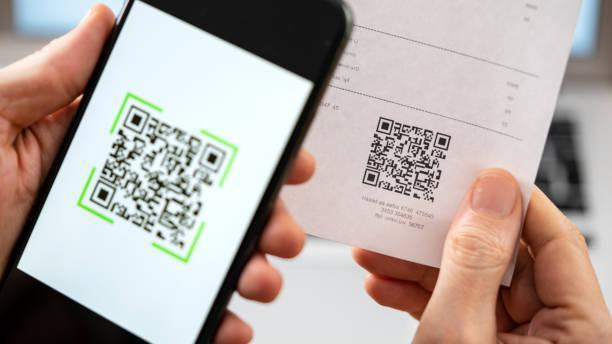qr_code: (89, 104, 227, 249), (362, 116, 452, 203)
